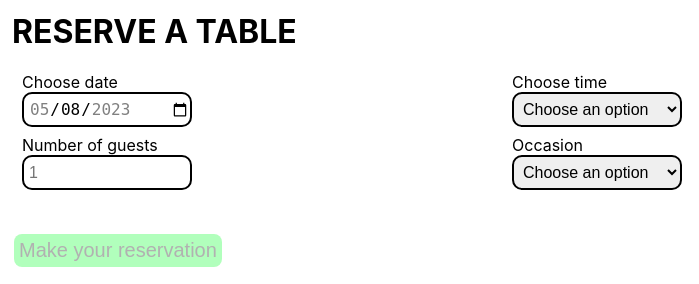
it: form validation
Check: the button showing "Make your reservation" is disabled, box [14,234,222,267]
Type "5" into the number field labelled "Number of guests". click: (107, 173)
box: [22,155,192,190]
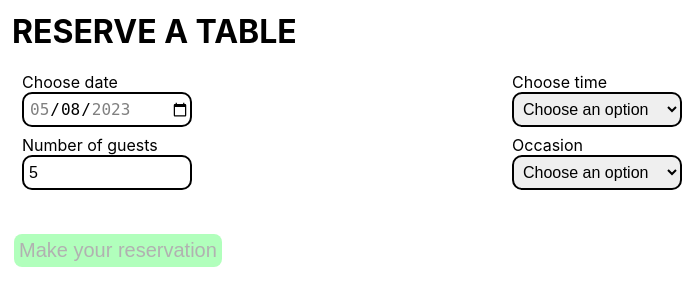
Check: the button showing "Make your reservation" is disabled, box [14,234,222,267]
Select "17:00" in the dropdown labelled "Choose time". click: (597, 110)
box: [512,92,682,127]
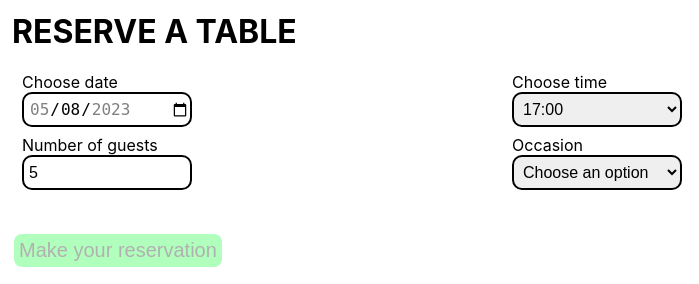
Check: the button showing "Make your reservation" is disabled, box [14,234,222,267]
Select "Birthday" in the dropdown labelled "Occasion". click: (597, 173)
box: [512,155,682,190]
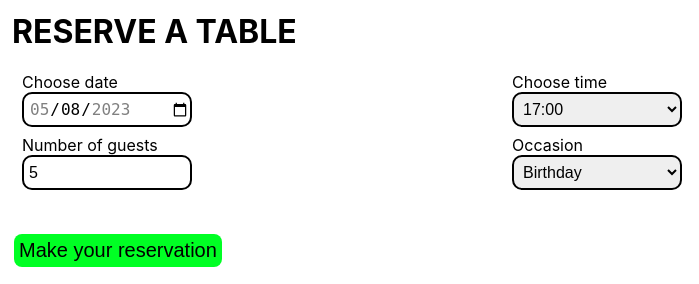
Check: the button showing "Make your reservation" is enabled, box [14,234,222,267]
